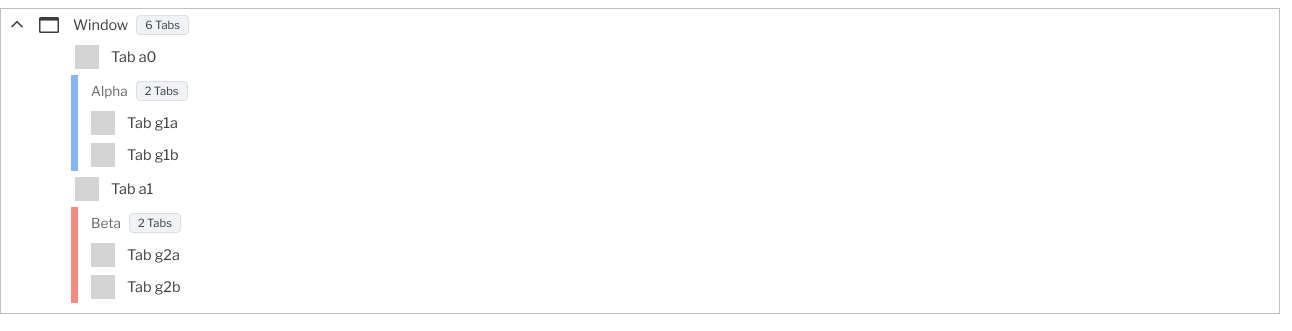
Test case: the controls inside the handle keep their clicks › a click on the title renames
Click the button with aria-label "Rename group: Alpha".
click(107, 91)  # box [87,75,128,107]
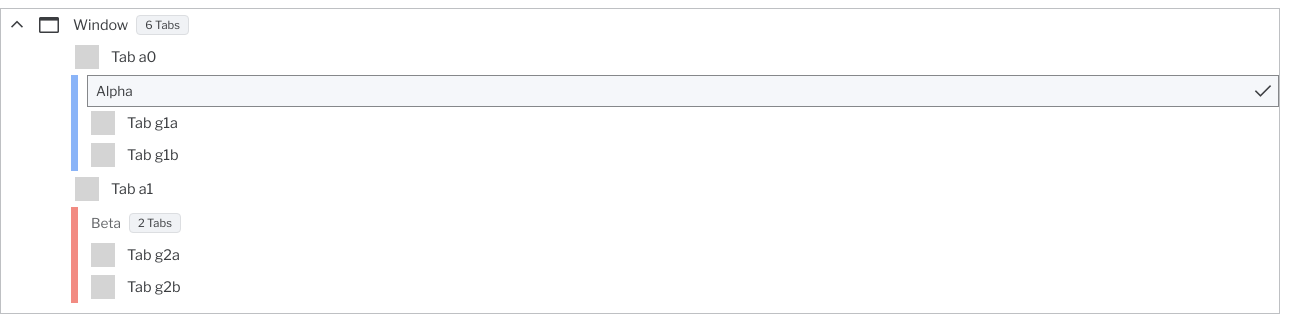
Result: the field named "Rename group: Alpha" is shown at [87,75,1279,107]
